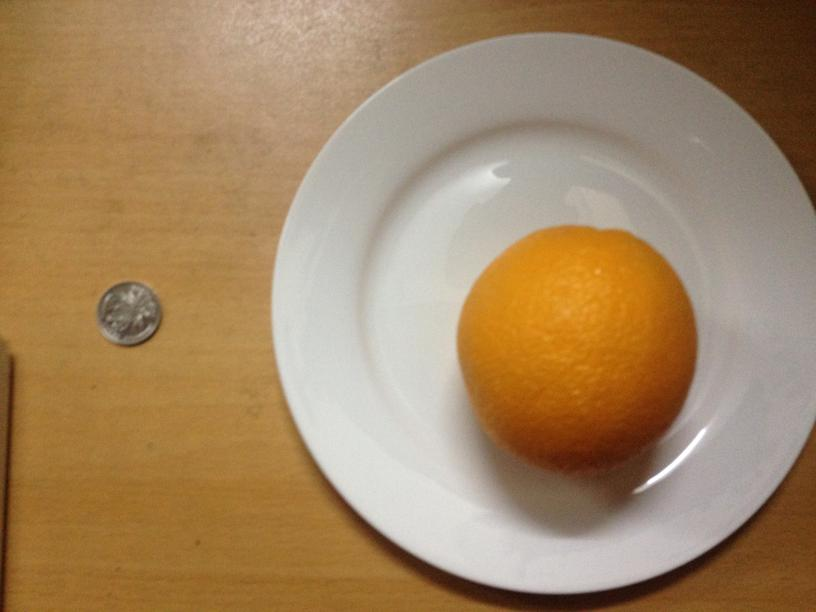coin: (95, 282, 162, 347)
orange: (463, 226, 696, 474)
